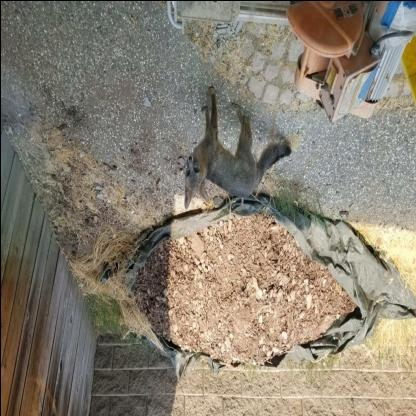zorro: (178, 79, 294, 215)
